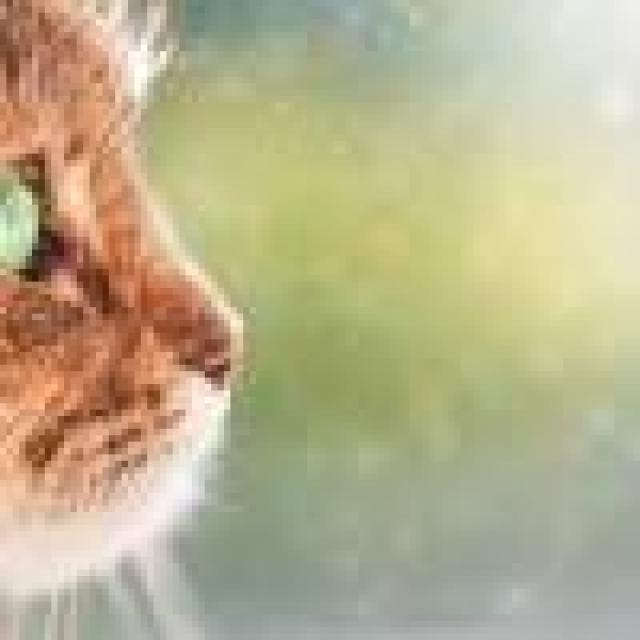Cat: (0, 0, 250, 608)
